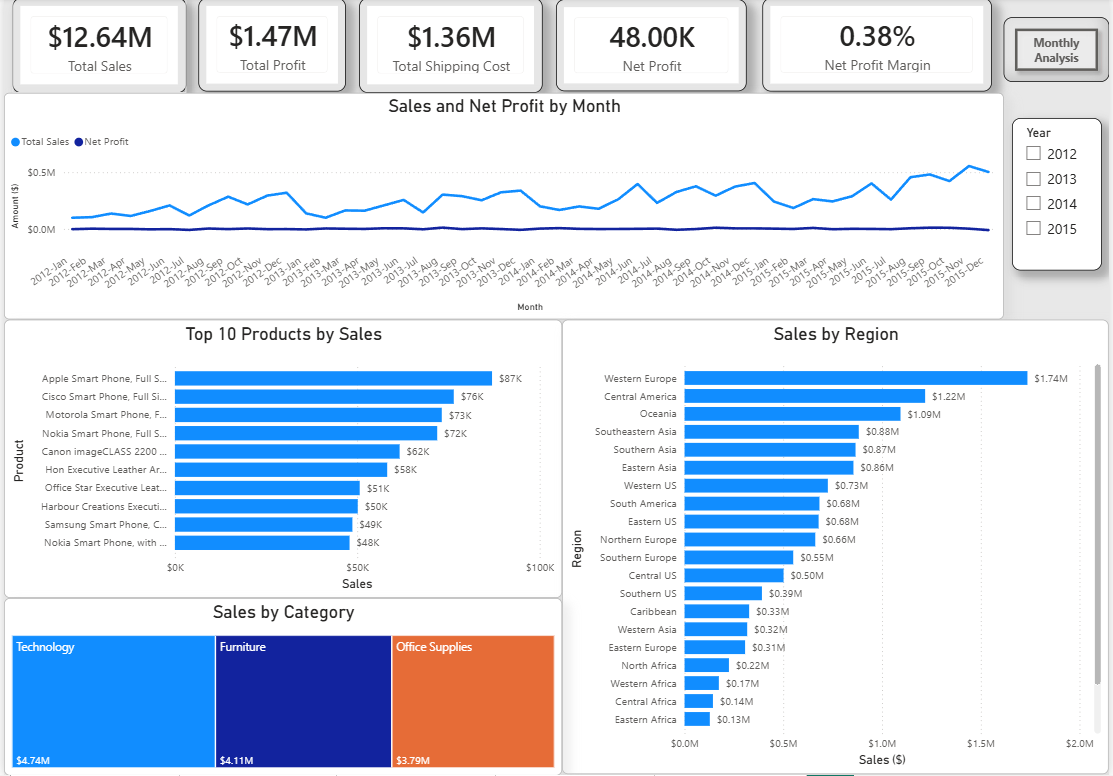

Layout of this report page (visuals, bound fields, positions):
{"tool":"powerbi","page":{"name":"Sales Performance","canvas":[1280,900],"ordinal":0},"visuals":[{"type":"cardVisual","fields":{"Data":["_Measures.Total Sales"]},"box":[9.7,0,201.6,109.8],"z":0},{"type":"cardVisual","fields":{"Data":["_Measures.Total Profit"]},"box":[225.2,0,171,108.4],"z":1000},{"type":"cardVisual","fields":{"Data":["_Measures.Total Shipping Cost"]},"box":[411.5,0,212.7,109.8],"z":2000},{"type":"cardVisual","fields":{"Data":["_Measures.Profit after Shipping and Returns"]},"box":[639.5,1.4,221.1,107.1],"z":3000},{"type":"cardVisual","fields":{"Data":["_Measures.Profit Margin after Shipping and Returns (%)"]},"box":[878.6,0,265.5,108.4],"z":4000},{"type":"lineChart","title":"Sales and Net Profit by Month","fields":{"Category":["DimDate.YearMonthName"],"Y":["_Measures.Total Sales","_Measures.Profit after Shipping and Returns"]},"box":[0,109.8,1158.1,262.8],"z":5000},{"type":"slicer","fields":{"Values":["DimDate.Year"]},"box":[1167.8,139,104,177],"z":6000},{"type":"clusteredBarChart","title":"Top 10 Products by Sales","fields":{"Category":["Products.Product Name"],"Y":["_Measures.Total Sales"]},"box":[0,372.6,646.5,322.5],"z":7000},{"type":"clusteredBarChart","title":"Sales by Region","fields":{"Category":["Address.Region"],"Y":["_Measures.Total Sales"]},"box":[646.1,373,633.4,526.5],"z":8000},{"type":"treemap","title":"Sales by Category","fields":{"Group":["Products.Category"],"Values":["_Measures.Total Sales"]},"box":[0,695.1,646.5,205.8],"z":9000},{"type":"actionButton","box":[1158.1,22.2,122.3,75.1],"z":10000}]}

Visuals, with their boxes in screenshot pixels (x1, y1, x2, y2), scaled from the page's 1280x900 canvas onto the 1113x776 screenshot:
cardVisual - _Measures.Total Sales: x1=8 y1=0 x2=184 y2=95
cardVisual - _Measures.Total Profit: x1=196 y1=0 x2=345 y2=93
cardVisual - _Measures.Total Shipping Cost: x1=358 y1=0 x2=543 y2=95
cardVisual - _Measures.Profit after Shipping and Returns: x1=556 y1=1 x2=748 y2=94
cardVisual - _Measures.Profit Margin after Shipping and Returns (%): x1=764 y1=0 x2=995 y2=93
"Sales and Net Profit by Month" lineChart: x1=0 y1=95 x2=1007 y2=321
slicer - DimDate.Year: x1=1015 y1=120 x2=1106 y2=272
"Top 10 Products by Sales" clusteredBarChart: x1=0 y1=321 x2=562 y2=599
"Sales by Region" clusteredBarChart: x1=562 y1=322 x2=1112 y2=775
"Sales by Category" treemap: x1=0 y1=599 x2=562 y2=775
actionButton: x1=1007 y1=19 x2=1112 y2=84
